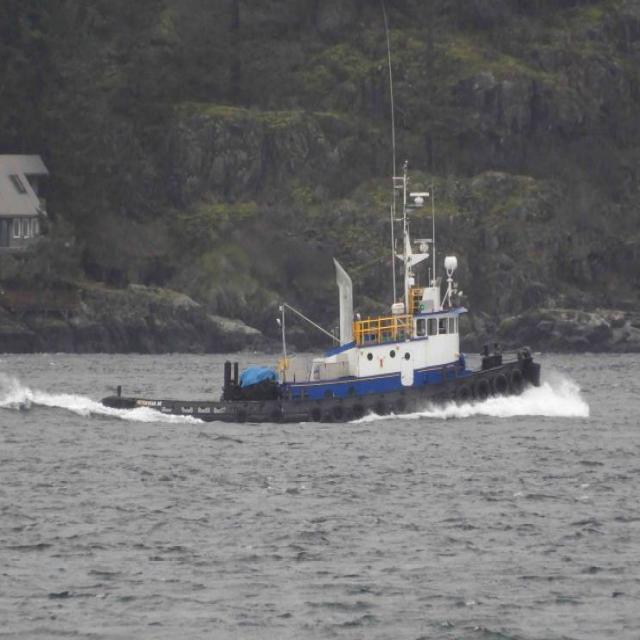fishing boat: (98, 187, 548, 421)
